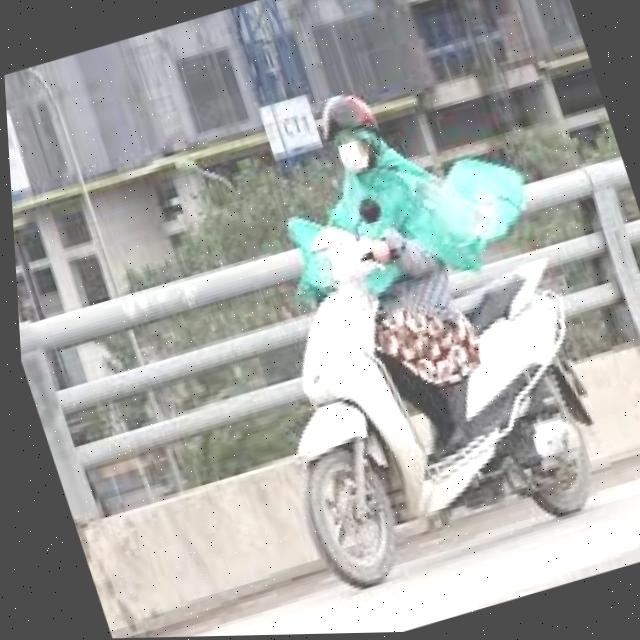motorcycle: (208, 154, 636, 597)
plate: (415, 62, 495, 118)
